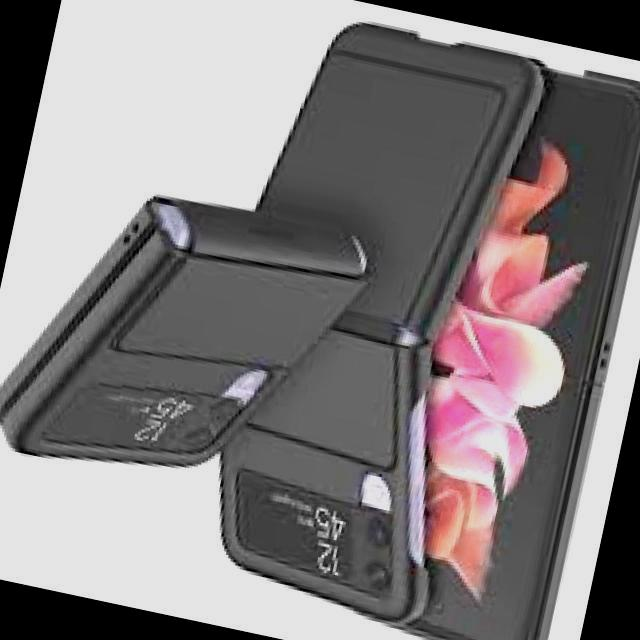lens: (178, 391, 236, 458), (358, 514, 398, 591)
phone: (260, 29, 535, 616), (409, 63, 640, 640), (0, 194, 368, 473)
